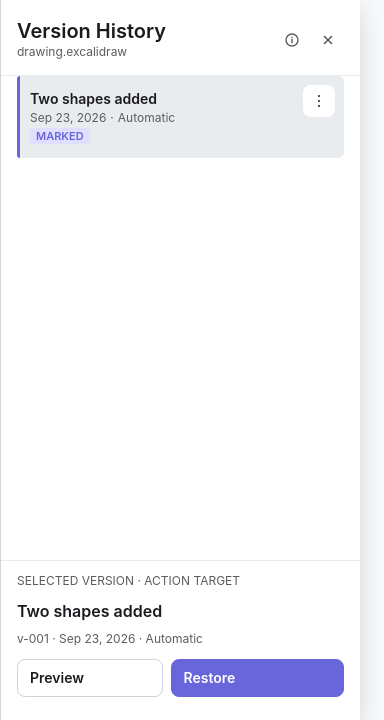
Scenario: HistoryPanel › explains when unmarking lets the retention policy remove the version
Click the button named "More actions for v-001": x=319, y=101 [303, 85, 335, 117]
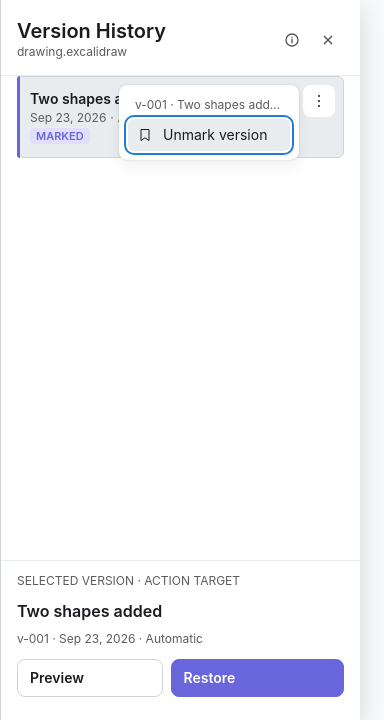
Click the menu item "Unmark version": x=209, y=135 [128, 119, 290, 151]
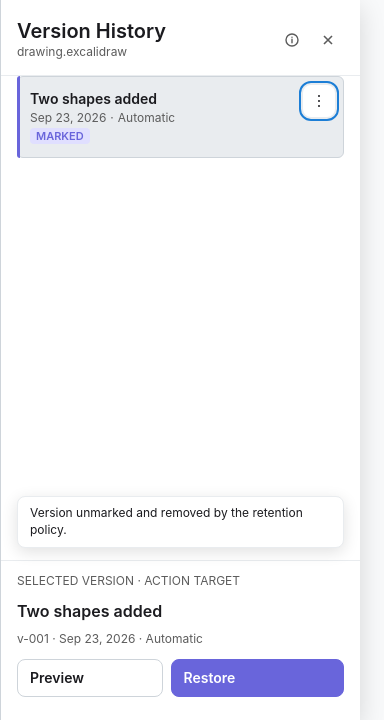
Expected: the text "Version unmarked and removed by the retention policy." is shown, [17, 496, 344, 548]
